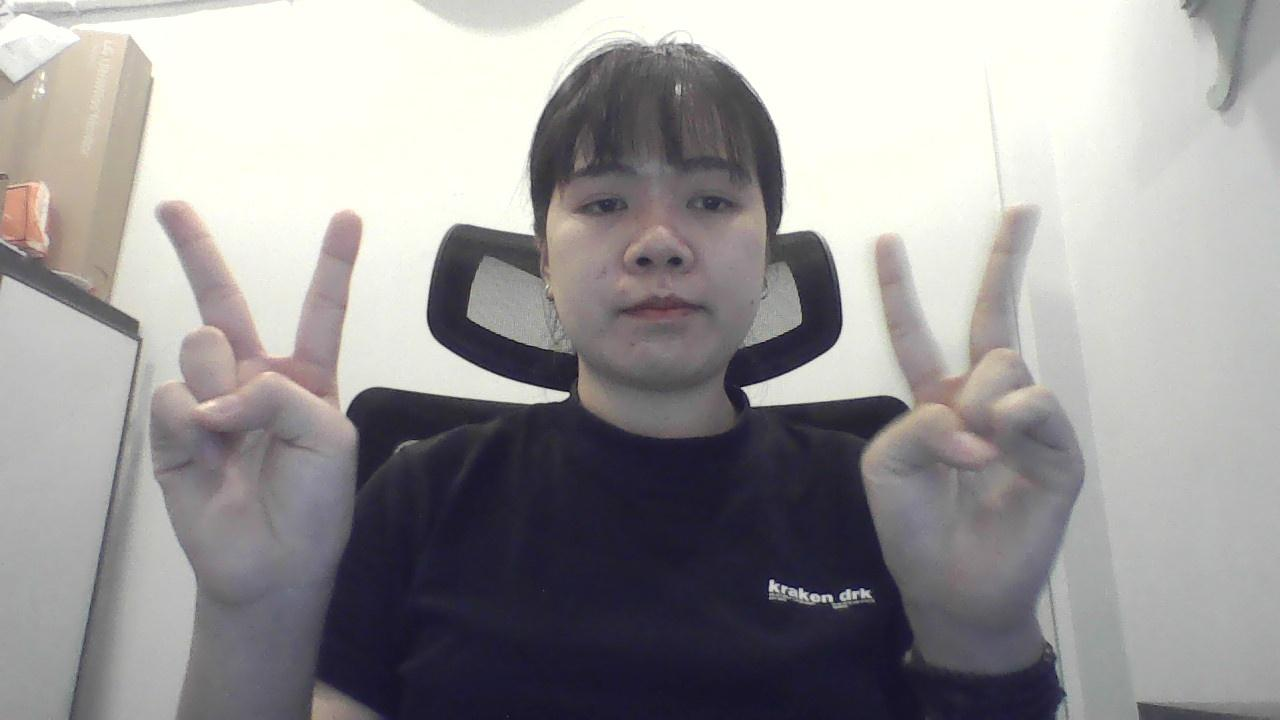V: (129, 182, 378, 618), (854, 200, 1097, 632)
